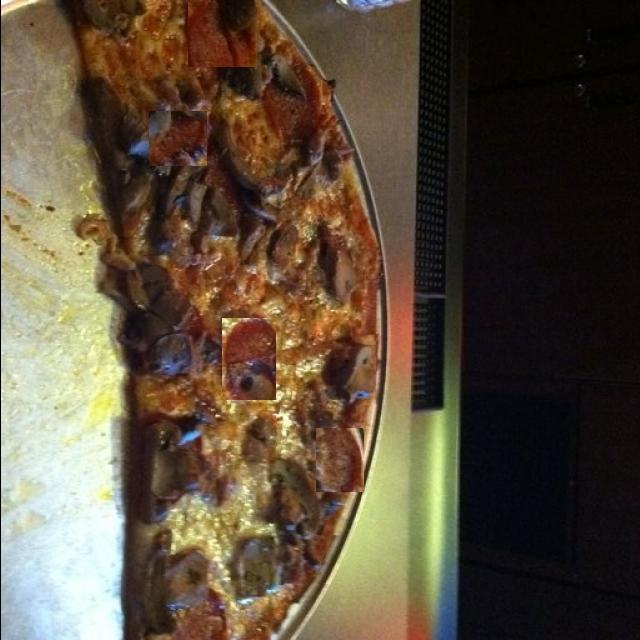pepperoni: (187, 0, 256, 67), (221, 318, 275, 400), (264, 65, 320, 141), (148, 111, 206, 166), (315, 428, 363, 492)
